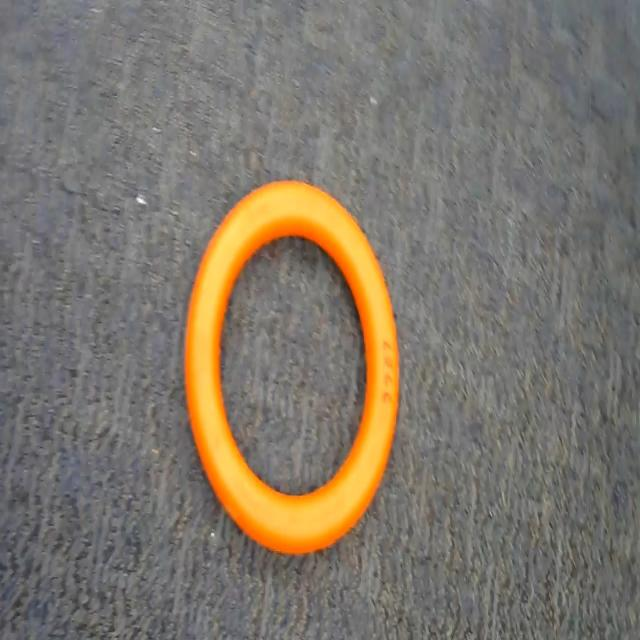note: (163, 166, 417, 562)
